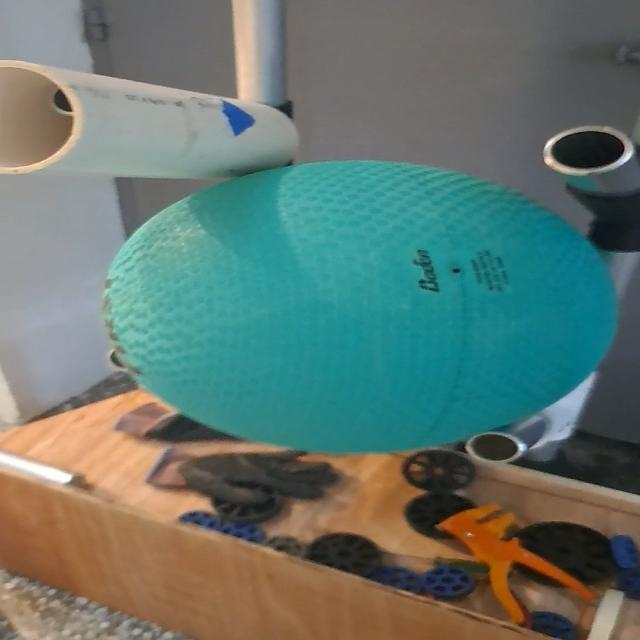ALGAE: (108, 152, 621, 454)
CORAL: (0, 50, 304, 180)
